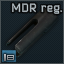Desert Tech .308 flash hider: (0, 0, 64, 64)
